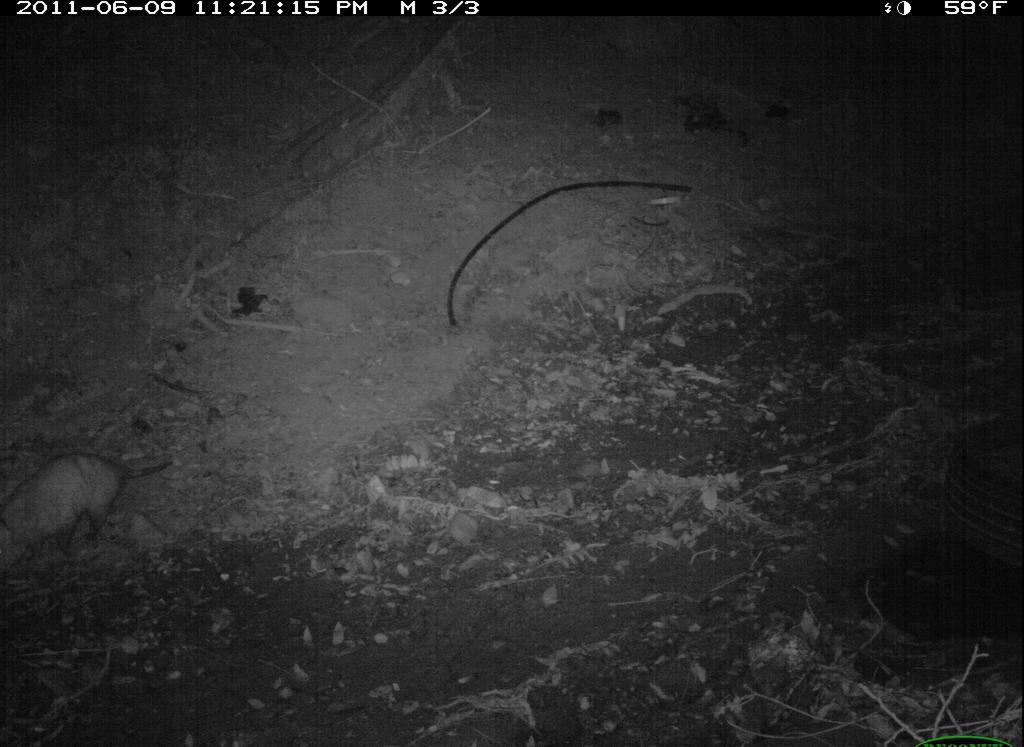opossum: (6, 450, 184, 575)
